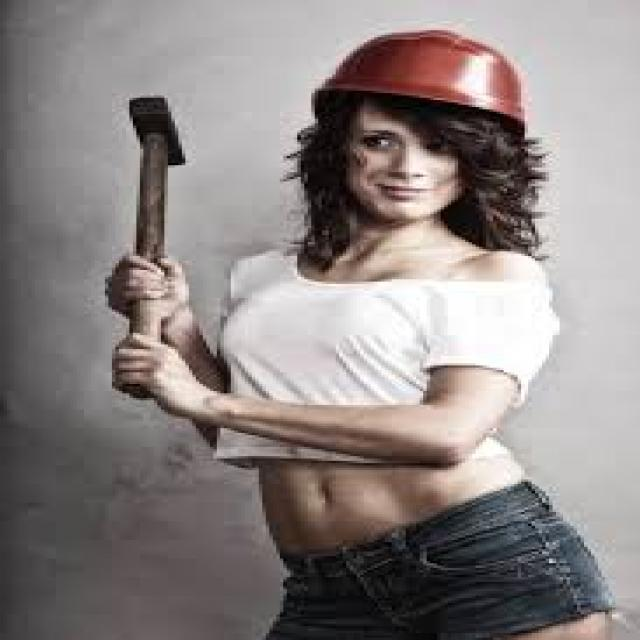hammer: (125, 85, 214, 366)
